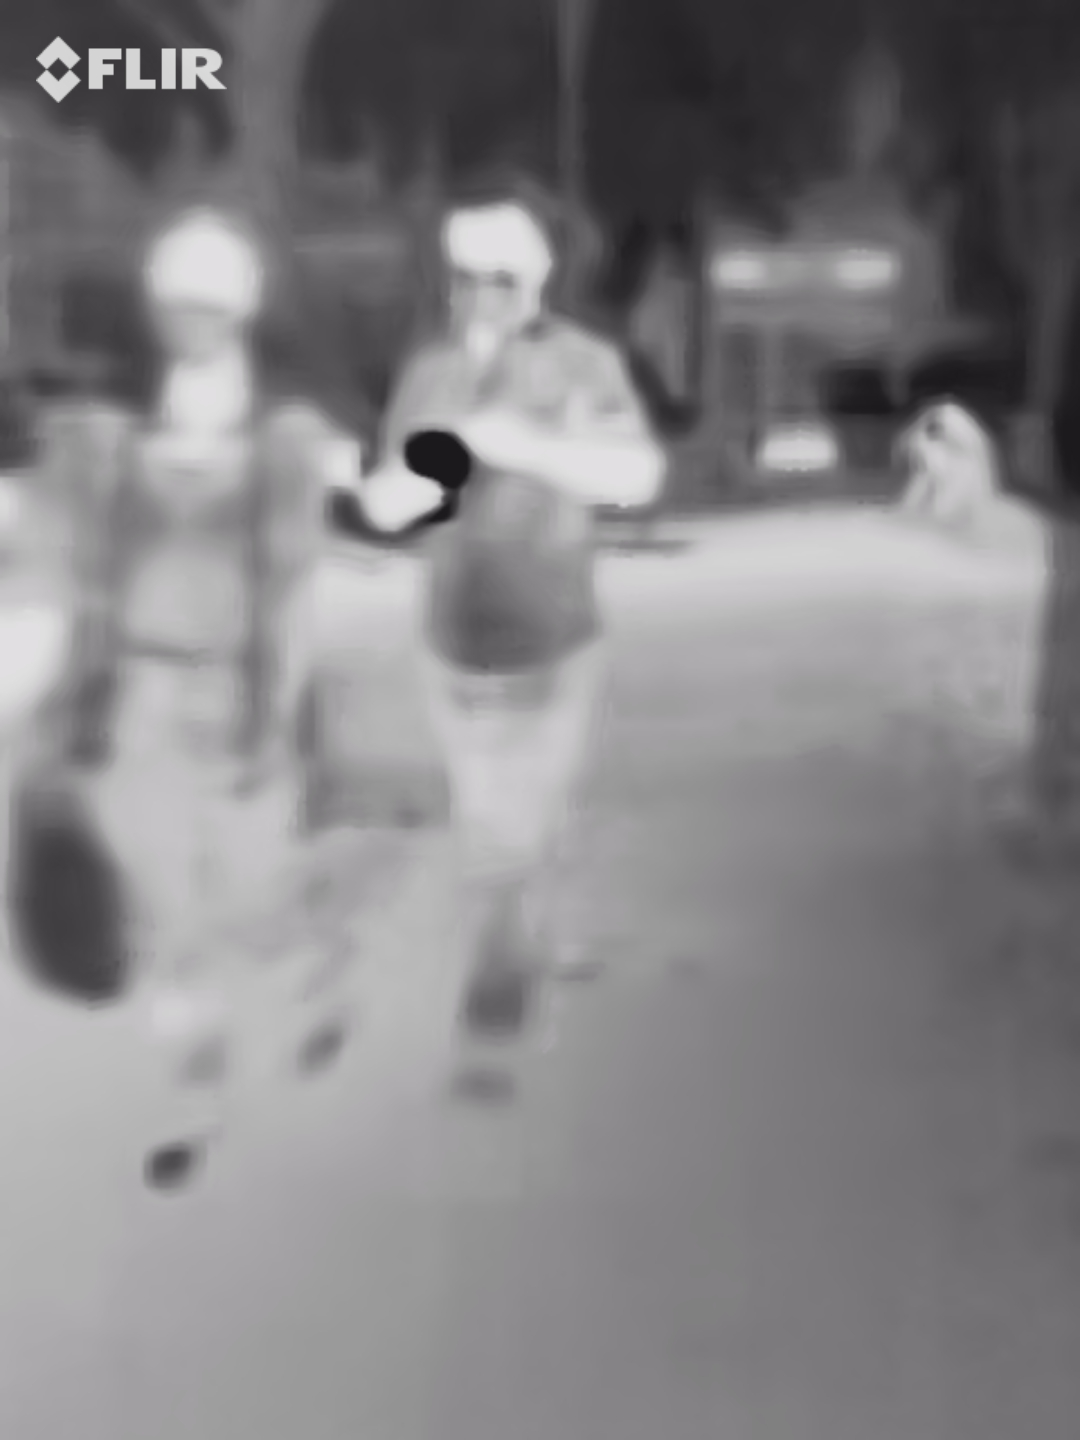head: (442, 183, 556, 351)
